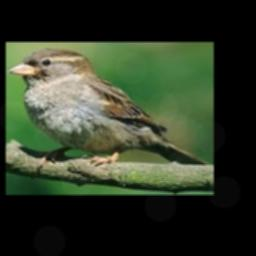Sparrow: (7, 48, 210, 169)
